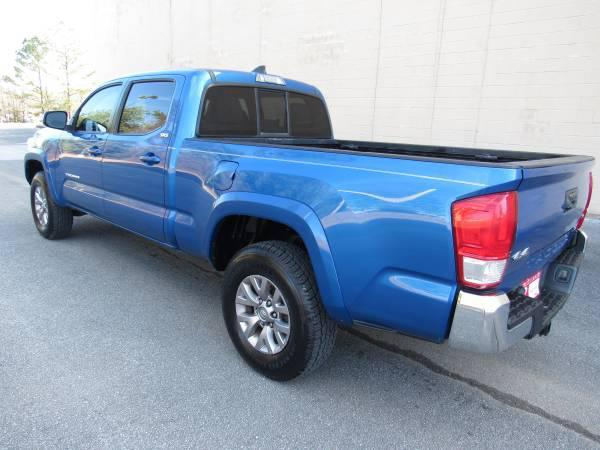Front_Left_Door: (51, 130, 111, 219)
Front_Left_Window: (66, 81, 131, 134)
Left_Taillight: (453, 190, 518, 295)
Rear_Bumper: (447, 233, 586, 352)
Rear_Fender: (171, 132, 522, 344)
Rear_Left_Door: (106, 136, 181, 246)
Rear_Left_Window: (115, 78, 199, 138)
Rear_Windshield: (190, 75, 336, 141)
Tailgate: (509, 158, 596, 290)
Wheel: (214, 237, 336, 380), (30, 176, 72, 239)
